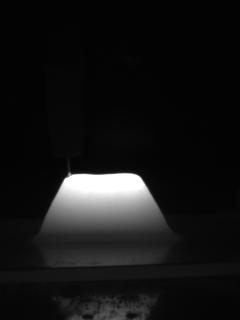tip_wire_left: (51, 150, 71, 176)
tip_wire_right: (67, 150, 83, 176)
